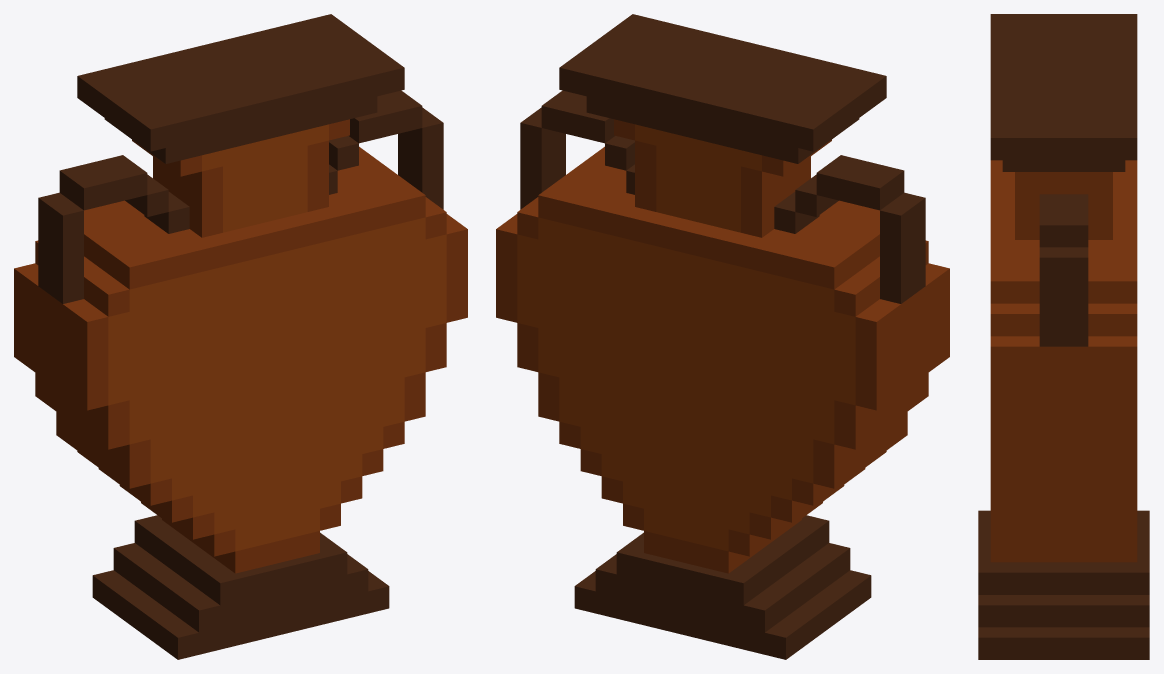
Rendered from ExekiasAmphora.fbx.
3 views of the same model, side by side, from view 1: azimuth 30°, elevation 25°; view 2: azimuth 150°, elevation 25°; view 3: azimuth 270°, elevation 25° (orthographic).
Visible parts, largest first — view 1: generated; view 2: generated; view 3: generated.
Part boxes in pixels (left/top/right/bottom): generated: left=14, top=14, right=467, bottom=659; generated: left=496, top=14, right=949, bottom=659; generated: left=978, top=14, right=1149, bottom=659.
Size of the model in its own units: 9 by 12 by 3.5.
